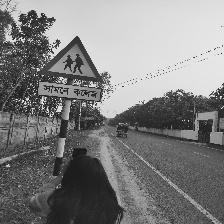College-in-front: (34, 37, 100, 105)
